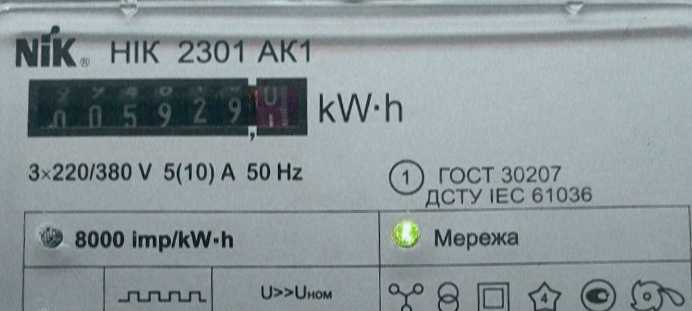0: (86, 101, 106, 130), (49, 104, 71, 128), (262, 83, 281, 107)
2: (190, 93, 210, 127)
5: (121, 100, 140, 129)
9: (154, 98, 176, 129), (226, 93, 246, 126), (54, 84, 72, 103)
screen: (20, 65, 317, 153)
